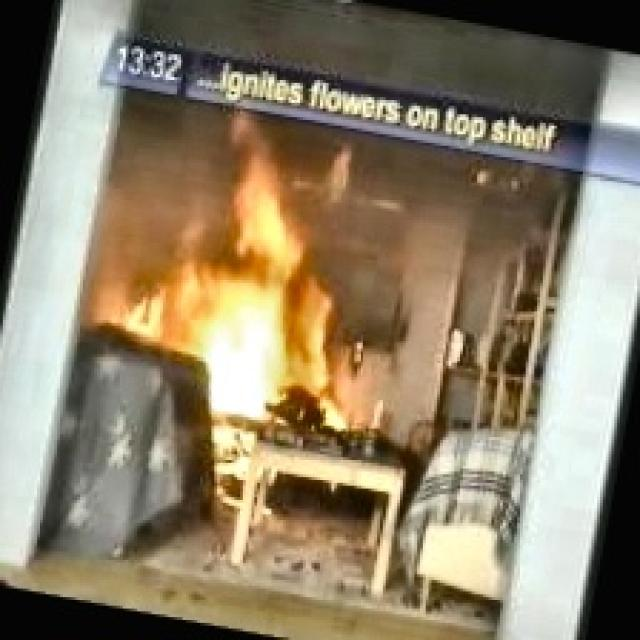fire: (130, 93, 404, 427)
